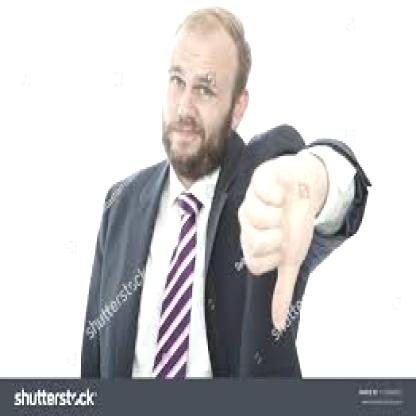Thumbs Down: (245, 160, 313, 331)
